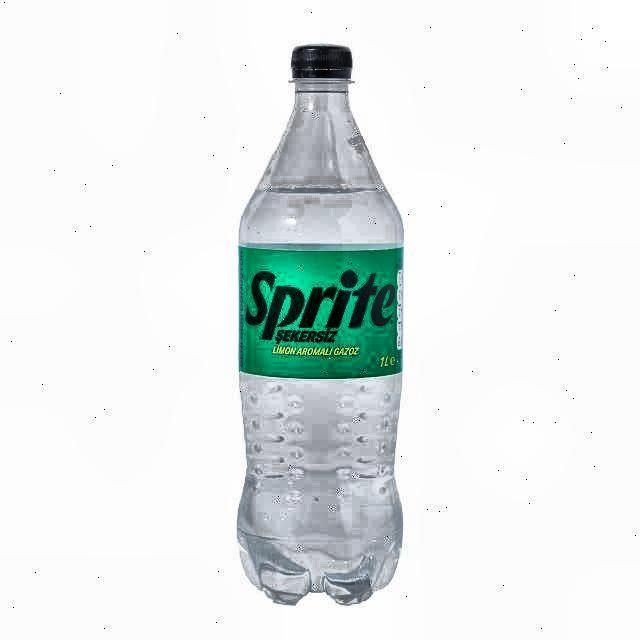plastic: (234, 42, 407, 610)
